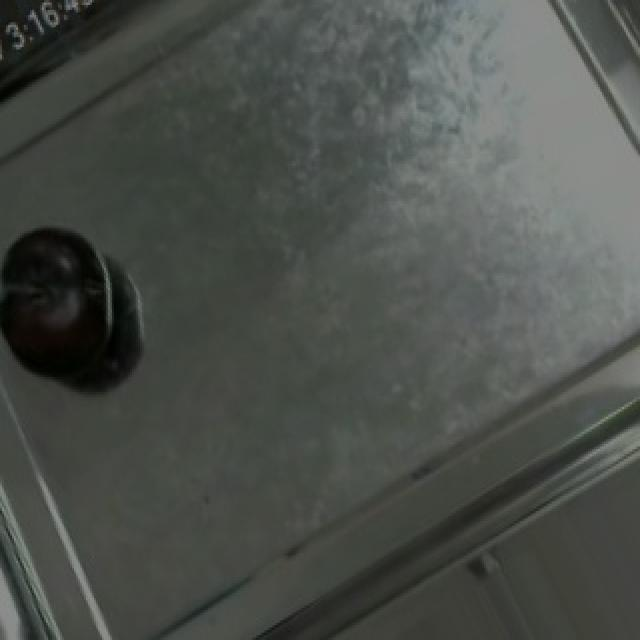Fruit: (0, 206, 132, 397)
